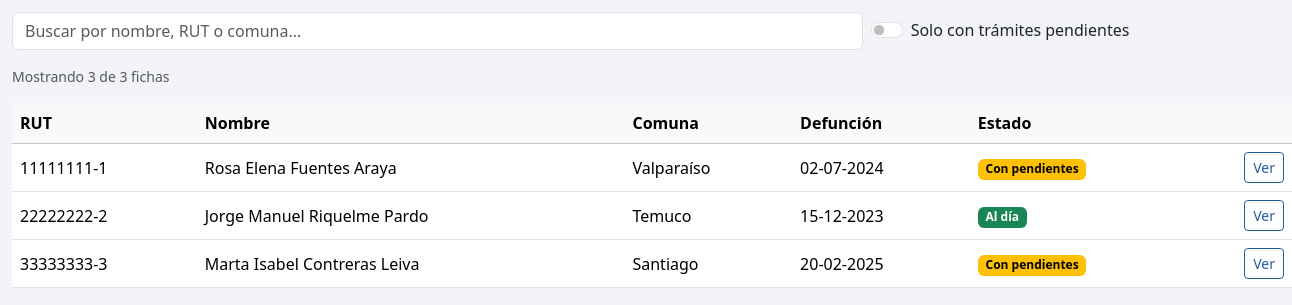
Test case: TablaFichasFiltrable (estado del filtro) › el switch deja solo las fichas con trámites pendientes
Click the switch with id "solo-pendientes" at x=887, y=30, box [871,22,903,38]
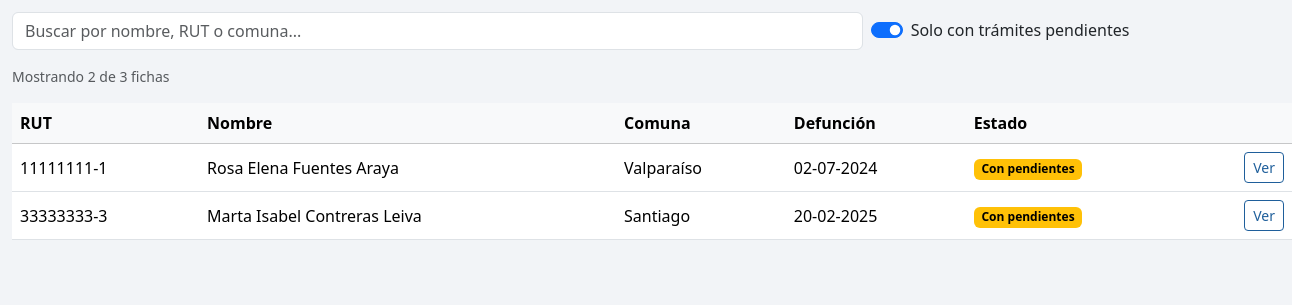
Result: the text with id "contador-fichas" reads "Mostrando 2 de 3 fichas" at [12,67,170,86]
Result: the cell no longer shows "Riquelme"
